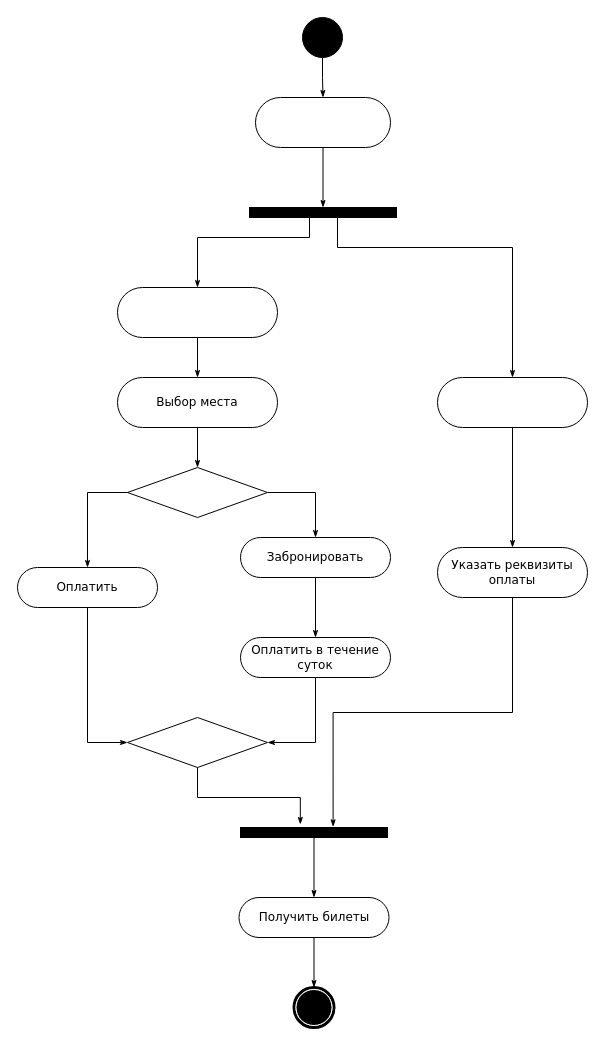
Image size: 605x1045. Some labels were removed from this diagram. The centre of each missing label's shape, as x and y in pixels:
"Выбор концерта" goes at pixel 197 312.
"Заполнение личных данных" goes at pixel 512 402.
"Покупка билета на концерт" goes at pixel 322 122.
